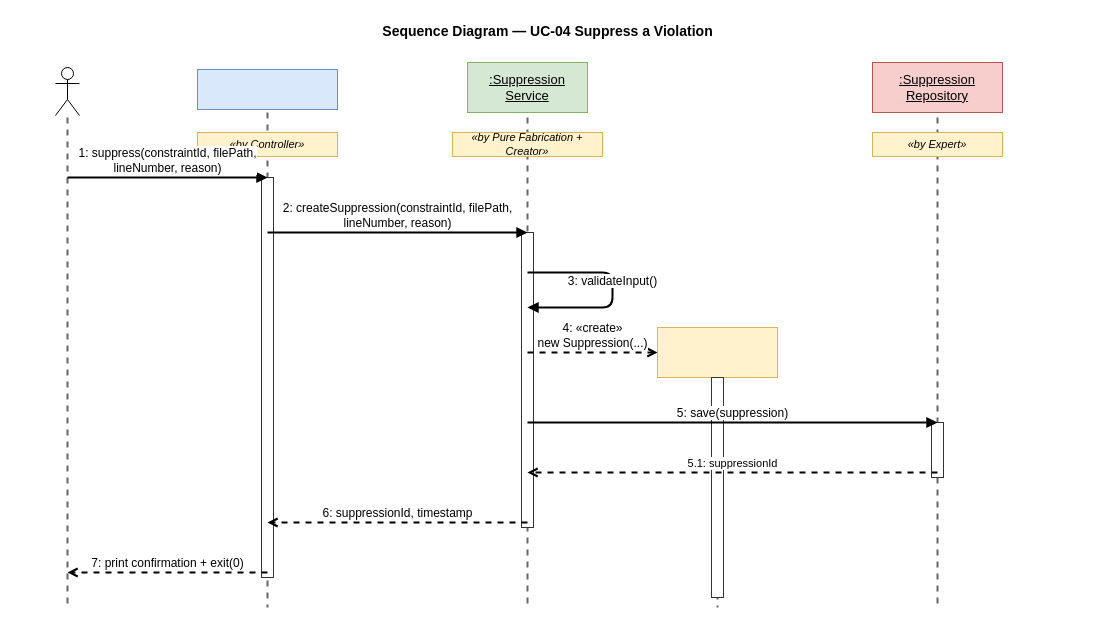
This 1094x626 diagram has some shape labels left out. The shapes that lost their labels are listed below. From the top down, each one's centre as x and y in pixels, then its label:
pixel 67 91: Developer
pixel 267 89: :SuppressCommand
pixel 717 352: suppression: Suppression
